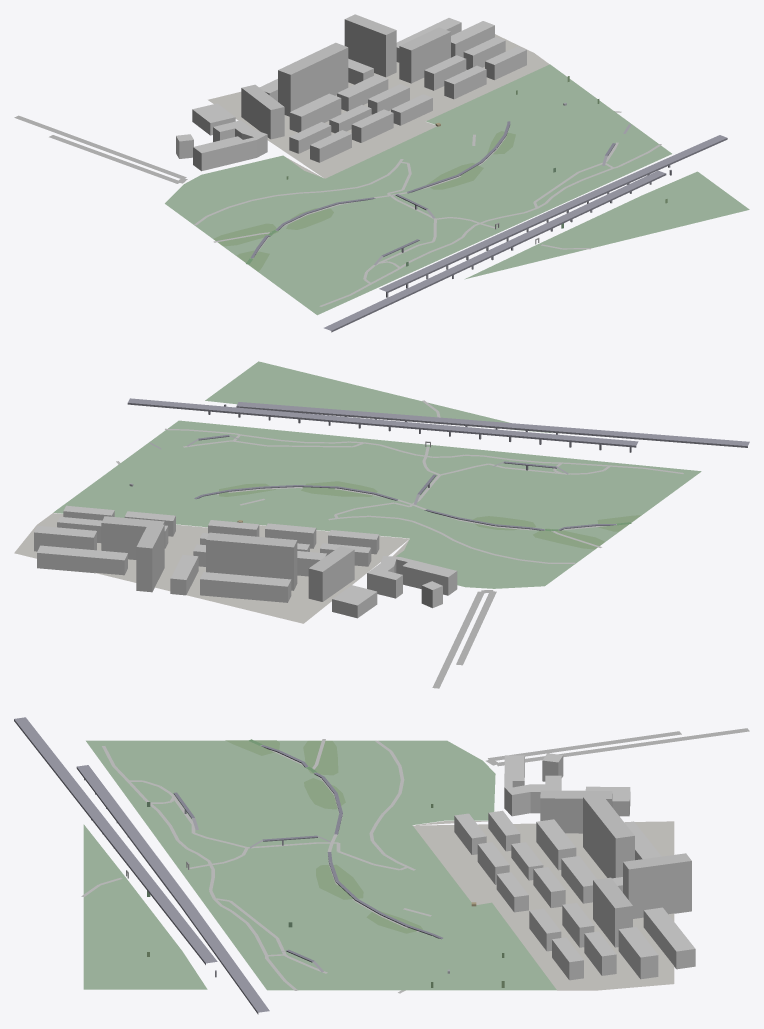
3 views of the same model, one above another, from view 1: azimuth 30°, elevation 25°; view 2: azimuth 150°, elevation 25°; view 3: azimuth 270°, elevation 25° (orthographic). The views are drawn at different scales.
Bounding box in the file's own units: 587 × 47.6 × 623.
